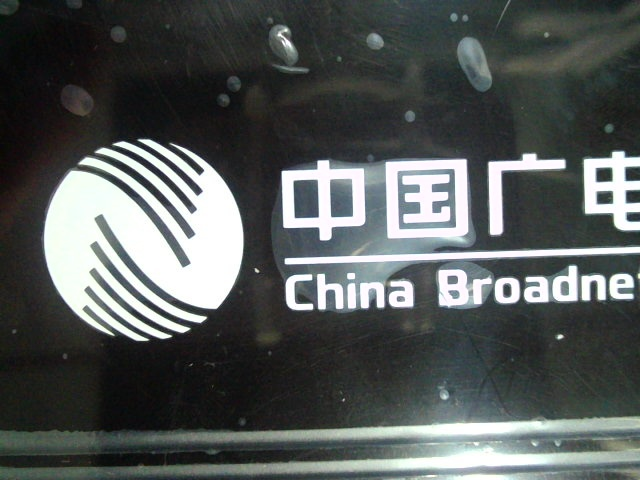AW_ChinaBroadNet: (38, 119, 631, 340)
